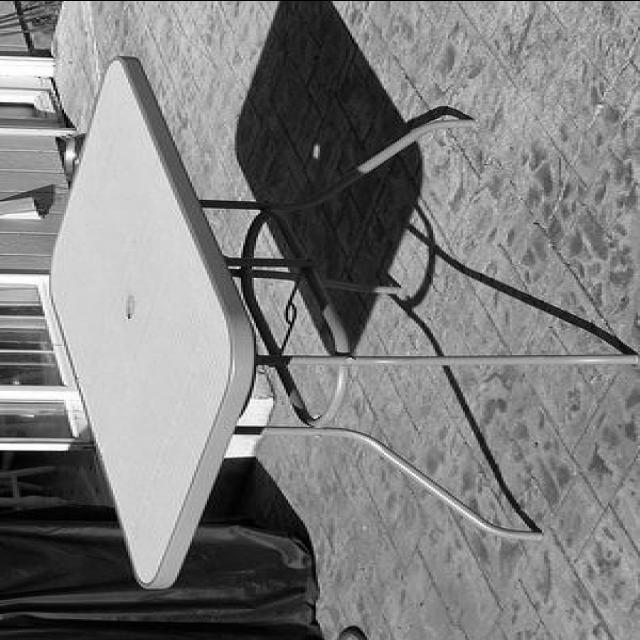table: (43, 54, 639, 587)
